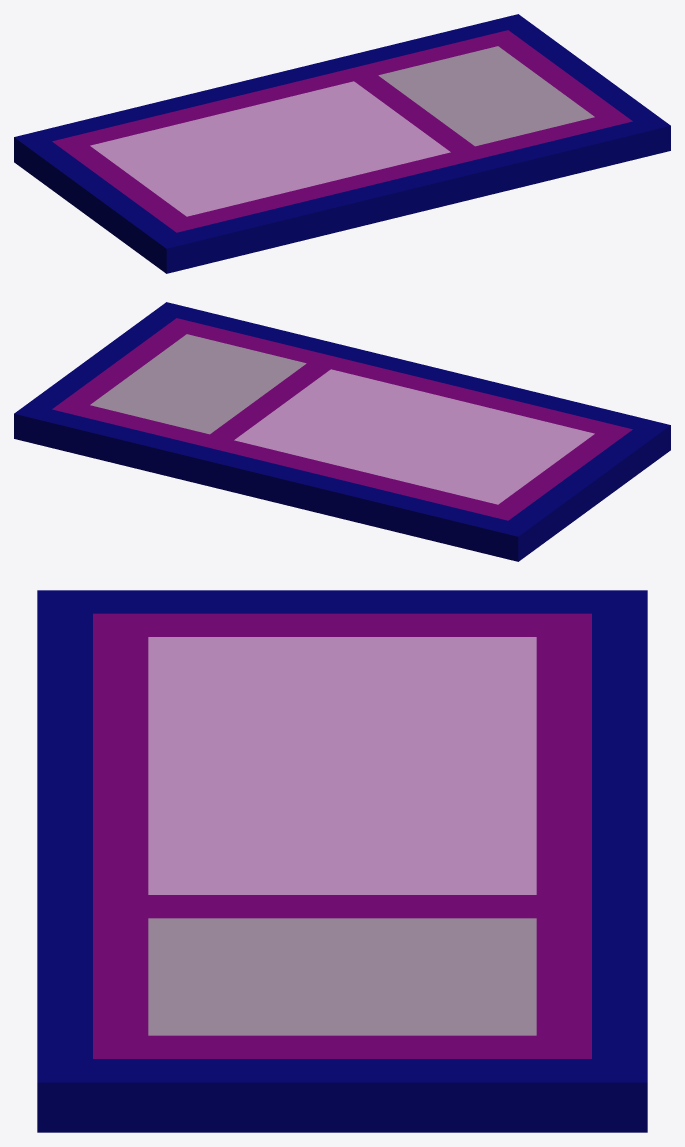
File: Card00.gltf
The picture shows the model from 3 angles, top to bottom: view 1: azimuth 30°, elevation 25°; view 2: azimuth 150°, elevation 25°; view 3: azimuth 270°, elevation 25°; orthographic projection. The views are drawn at different scales.
Size of the model in its own units: 21 by 1 by 11.
